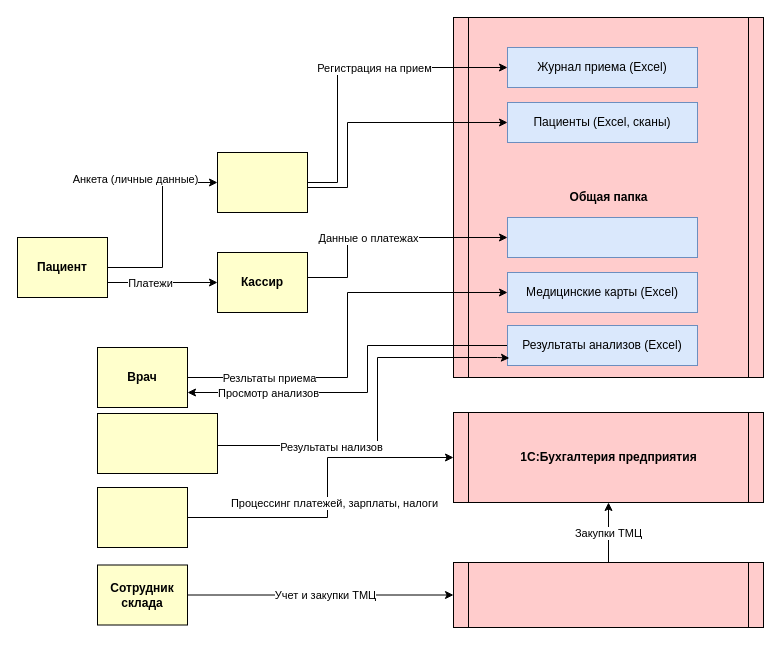
Image size: 781x645. Some labels were removed from this diagram. Each missing label, with the centre of its shape:
"1С:Торговля и склад" goes at (x=608, y=595).
"Бухгалтер" goes at (x=142, y=517).
"Мед.лаборатория" goes at (x=157, y=443).
"Платежи клиентов (Excel)" goes at (x=602, y=237).
"Сотрудник ресепшна" goes at (x=262, y=182).
